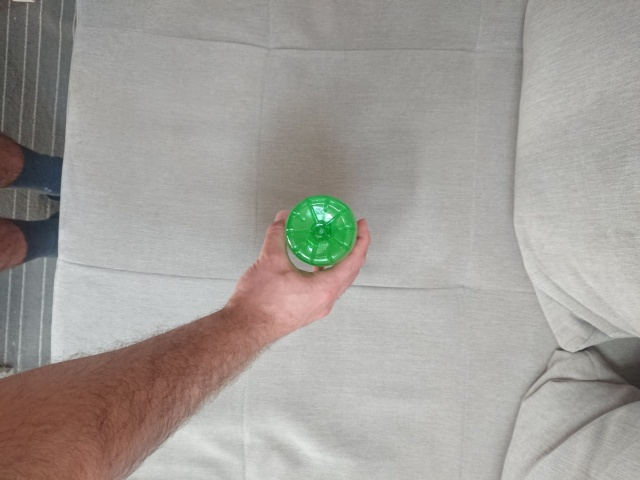Vindi Iso Sport Lemon-Grapefruit 500mL: (282, 193, 360, 269)
